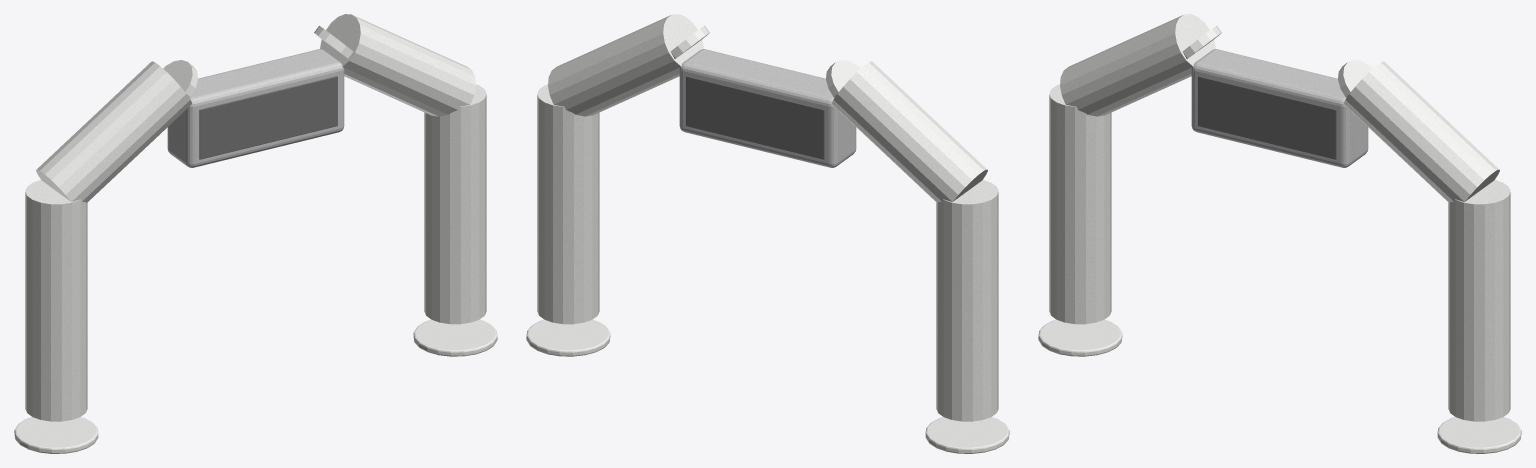
Rendered from arch_blank.dae.
3 views of the same model, side by side, from view 1: azimuth 30°, elevation 25°; view 2: azimuth 150°, elevation 25°; view 3: azimuth 330°, elevation 25° (orthographic).
Visible parts, largest first — view 1: arch_leg_L, arch_leg_R, arch_arm_L, arch_arm_R, arch_block, arch_logo_plate_0, arch_foot_L, arch_foot_R, arch_conn_L; view 2: arch_leg_L, arch_leg_R, arch_arm_L, arch_arm_R, arch_block, arch_logo_plate_1, arch_foot_L, arch_foot_R, arch_conn_L; view 3: arch_leg_R, arch_leg_L, arch_arm_R, arch_arm_L, arch_block, arch_logo_plate_0, arch_foot_R, arch_foot_L, arch_conn_R.
Part boxes in pixels (box(x1,y1,x2,y2)): arch_leg_L: box(25, 180, 87, 421); arch_leg_R: box(424, 84, 486, 324); arch_arm_L: box(36, 61, 191, 202); arch_arm_R: box(320, 14, 475, 116); arch_block: box(167, 49, 344, 167); arch_logo_plate_0: box(199, 76, 337, 159); arch_foot_L: box(14, 417, 98, 453); arch_foot_R: box(413, 319, 497, 356); arch_conn_L: box(163, 60, 197, 97); arch_leg_L: box(936, 180, 998, 421); arch_leg_R: box(537, 84, 599, 324); arch_arm_L: box(832, 61, 987, 202); arch_arm_R: box(548, 14, 703, 116); arch_block: box(679, 49, 856, 167); arch_logo_plate_1: box(686, 76, 824, 159); arch_foot_L: box(925, 417, 1009, 453); arch_foot_R: box(526, 319, 610, 356); arch_conn_L: box(826, 60, 860, 97); arch_leg_R: box(1448, 180, 1510, 421); arch_leg_L: box(1049, 84, 1111, 324); arch_arm_R: box(1344, 61, 1499, 202); arch_arm_L: box(1060, 14, 1215, 116); arch_block: box(1191, 49, 1368, 167); arch_logo_plate_0: box(1198, 76, 1336, 159); arch_foot_R: box(1437, 417, 1521, 453); arch_foot_L: box(1038, 319, 1122, 356); arch_conn_R: box(1338, 60, 1372, 97).
Size of the model in its own units: 9.59 by 1.49 by 6.75.
3 materials, 3 textured.
